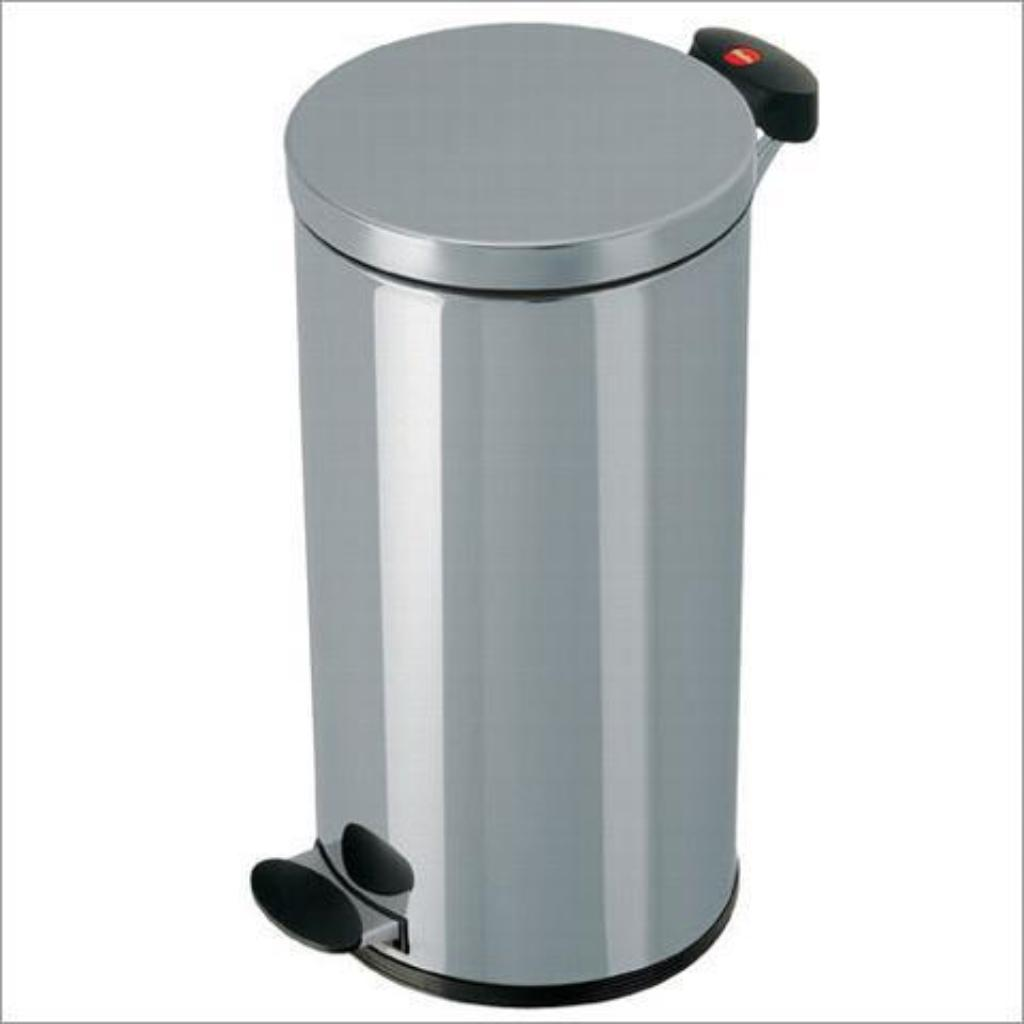dustbin: (233, 34, 835, 997)
